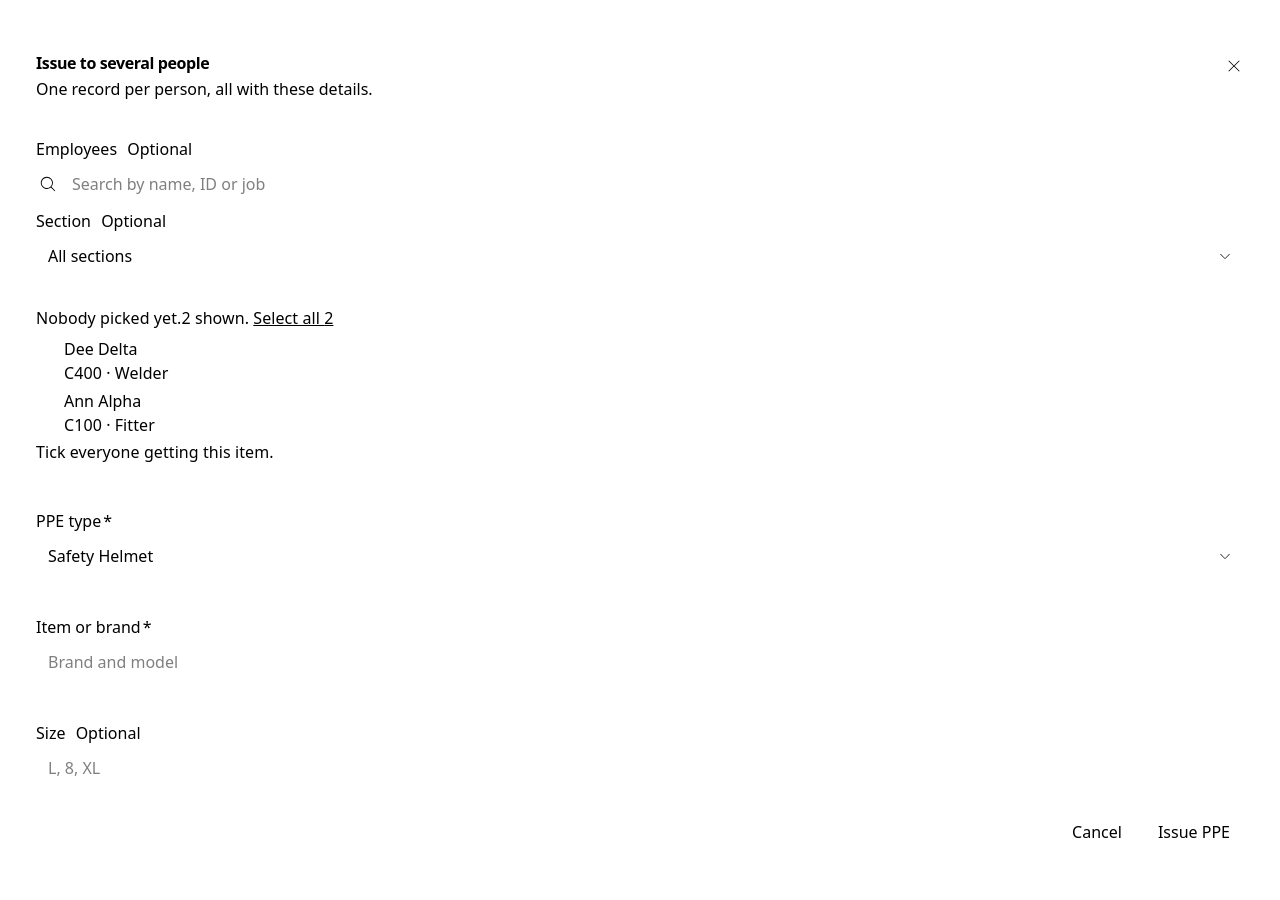
Scenario: PPEBulkIssueForm › names the people list and the item on an empty submit, and posts nothing
Click the button "Issue PPE" at point(1194, 832), box left=1144, top=814, right=1244, bottom=850
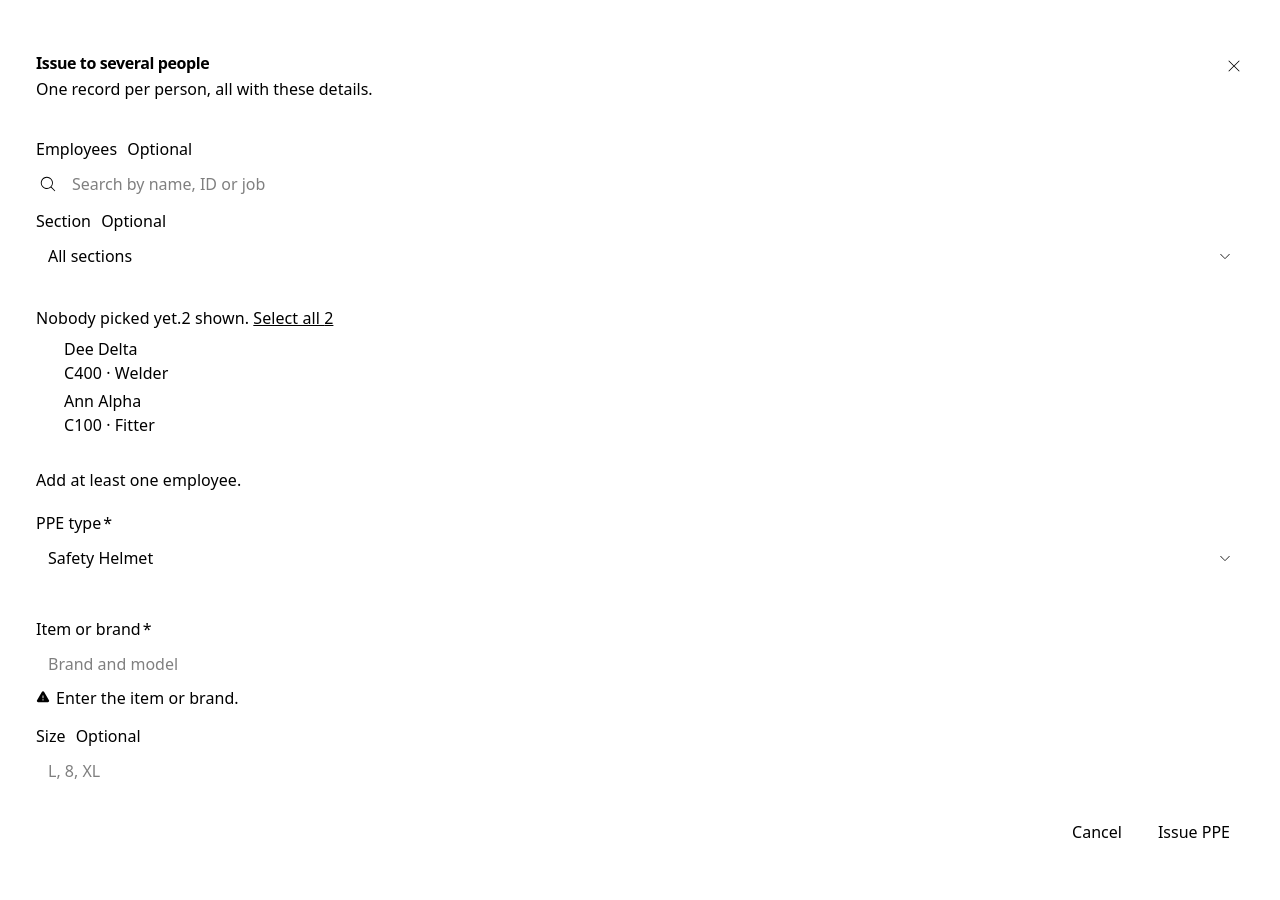
Expected: the text "Add at least one employee." is shown, left=36, top=469, right=241, bottom=491
Expected: the text "Enter the item or brand." is shown, left=56, top=688, right=239, bottom=709
